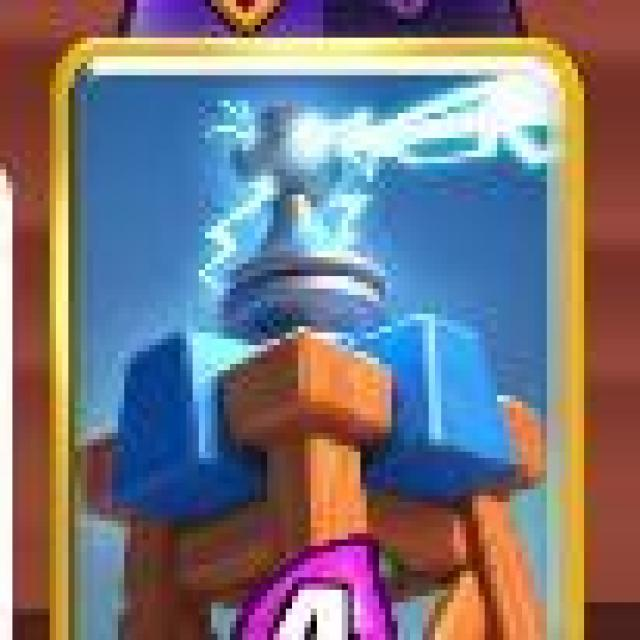Tesla: (57, 37, 589, 640)
